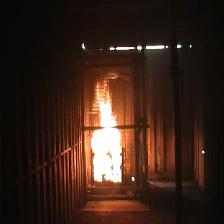fire: (88, 76, 123, 185)
